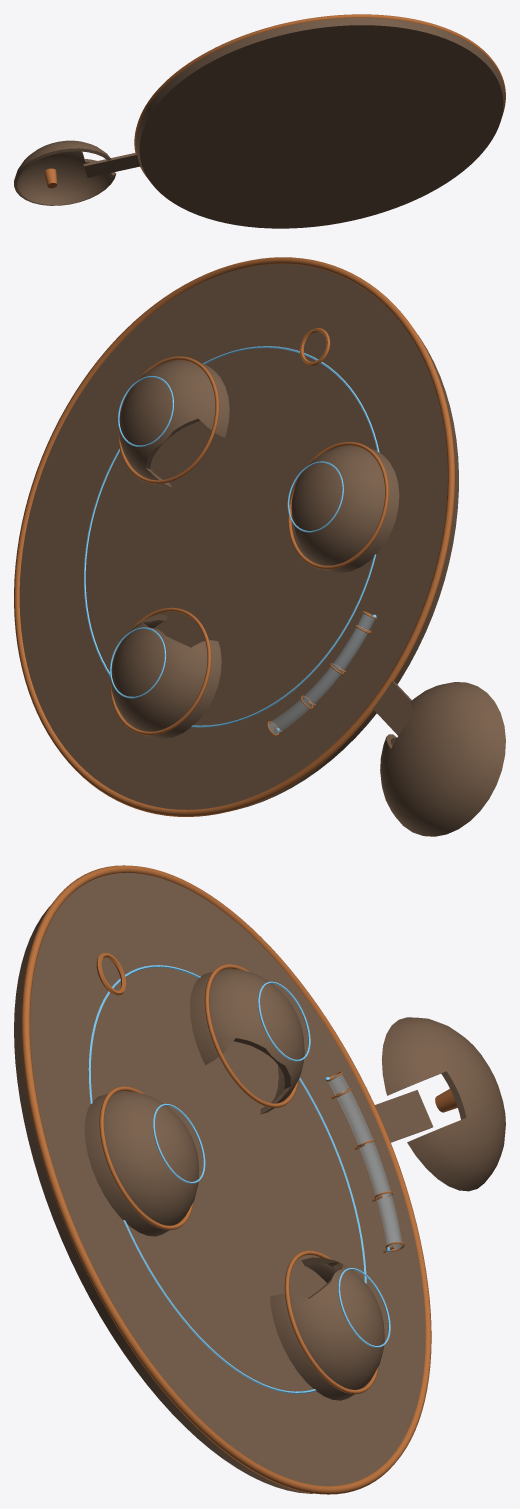
The model's file is lager.obj.
3 views of the same model, one above another, from view 1: azimuth 30°, elevation 25°; view 2: azimuth 150°, elevation 25°; view 3: azimuth 270°, elevation 25° (orthographic). The views are drawn at different scales.
Visible parts, largest first — view 1: Lager; view 2: Lager; view 3: Lager.
Boxes of the visible parts, bbox=[...] form: Lager: bbox=[14, 14, 505, 228]; Lager: bbox=[14, 257, 505, 836]; Lager: bbox=[14, 865, 505, 1494].
Size of the model in its own units: 64.41 by 45.3 by 38.78.
